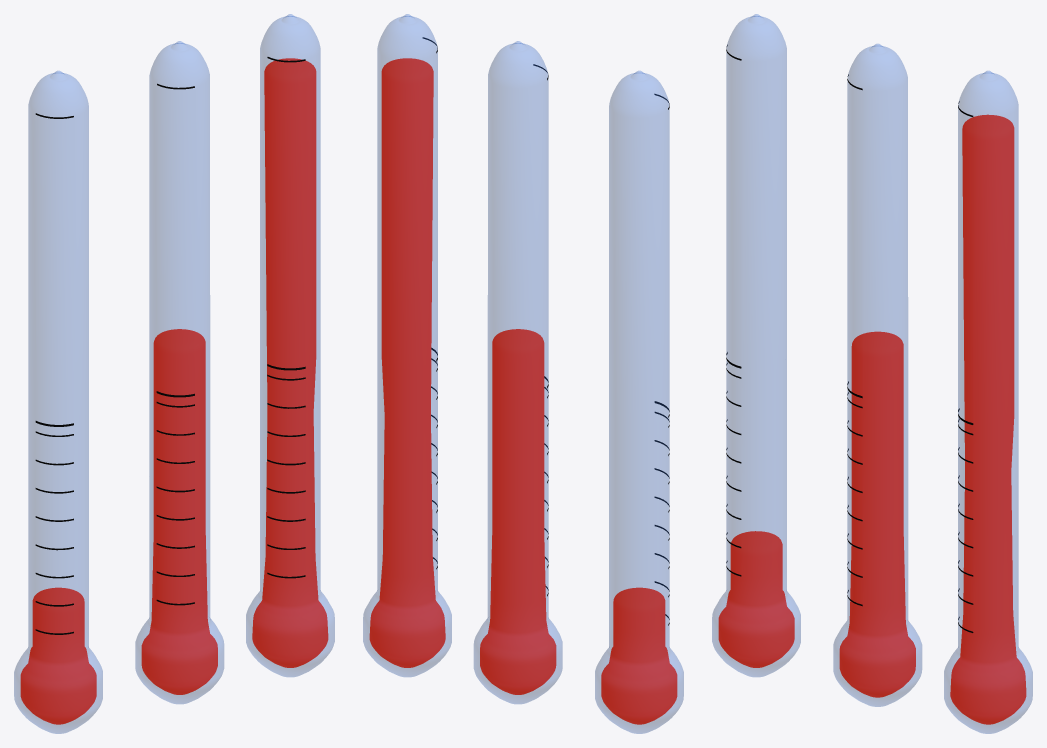
Rendered from classic_thermometer_red.glb.
3 renders of one model, left to right at view 1: azimuth 30°, elevation 25°; view 2: azimuth 150°, elevation 25°; view 3: azimuth 330°, elevation 25°, orthographic.
Parts seen in each view (by area): view 1: Cylinder.019_0, Cylinder.017_1, Cylinder.015_2; view 2: Cylinder.019_0, Cylinder.015_2, Cylinder.017_1; view 3: Cylinder.017_1, Cylinder.015_2, Cylinder.019_0.
Part boxes in pixels (x1,y1,x2,y2): Cylinder.019_0: [246, 14, 334, 676]; Cylinder.017_1: [135, 41, 223, 703]; Cylinder.015_2: [14, 71, 102, 733]; Cylinder.019_0: [363, 14, 451, 676]; Cylinder.015_2: [595, 71, 683, 733]; Cylinder.017_1: [474, 41, 562, 703]; Cylinder.017_1: [833, 44, 921, 706]; Cylinder.015_2: [712, 14, 800, 676]; Cylinder.019_0: [944, 71, 1032, 733].
Size of the model in its own units: 0.6505 by 1.33 by 0.1626.
